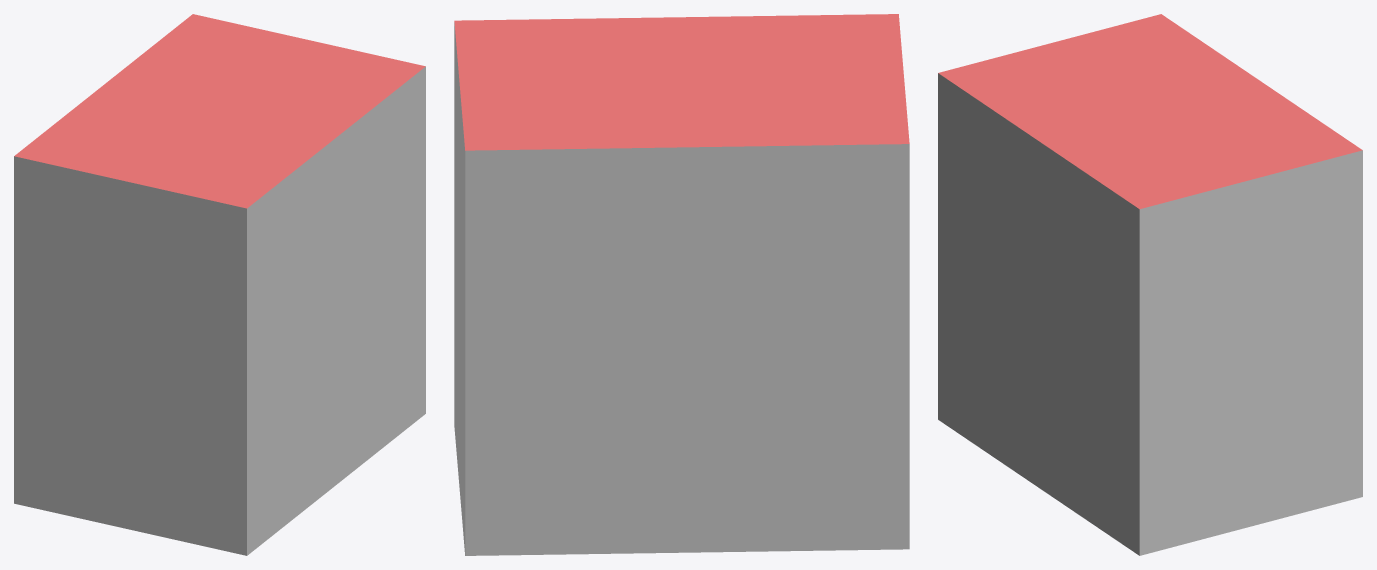
3 views of the same model, side by side, from view 1: azimuth 30°, elevation 25°; view 2: azimuth 150°, elevation 25°; view 3: azimuth 270°, elevation 25° (orthographic). The views are drawn at different scales.
Parts seen in each view (by area): view 1: Z_UP; view 2: Z_UP; view 3: Z_UP.
Part boxes in pixels (bbox=[...]): Z_UP: bbox=[14, 14, 425, 555]; Z_UP: bbox=[454, 14, 909, 555]; Z_UP: bbox=[938, 14, 1362, 555].
Bounding box in the file's own units: 15.8 × 13.07 × 14.52.
